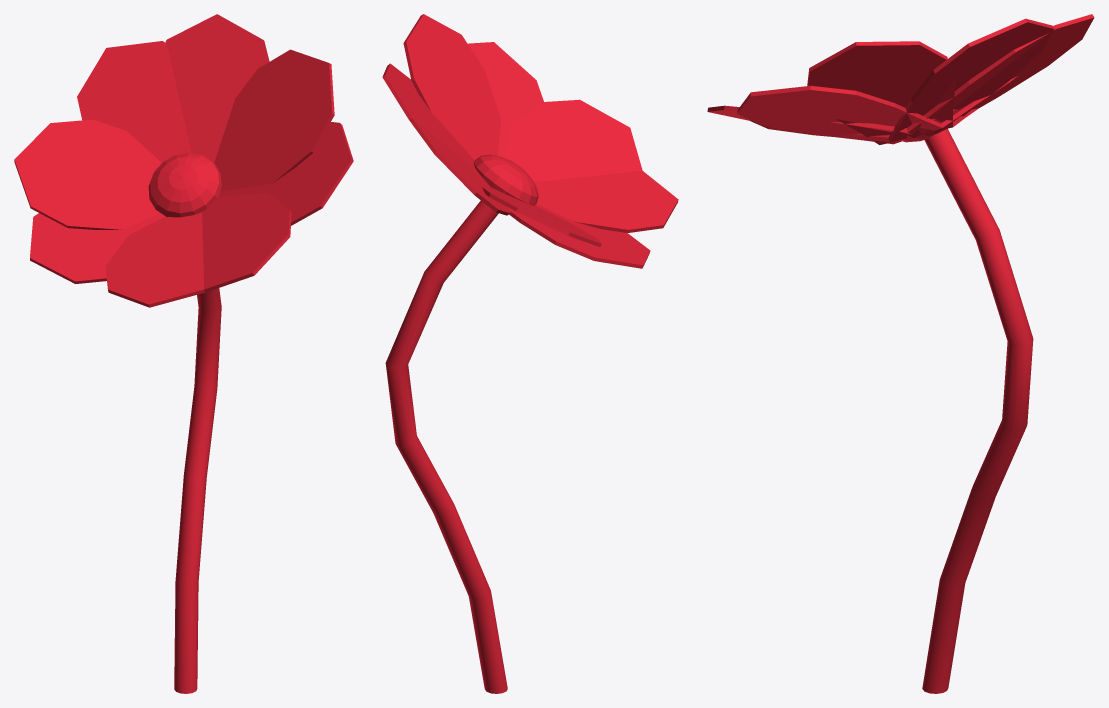
File: Czerwony.kwiatek.fbx
3 views of the same model, side by side, from view 1: azimuth 30°, elevation 25°; view 2: azimuth 150°, elevation 25°; view 3: azimuth 270°, elevation 25° (orthographic). The views are drawn at different scales.
Visible parts, largest first — view 1: Red Flower; view 2: Red Flower; view 3: Red Flower.
Boxes of the visible parts, x1,y1,x2,y2 form: Red Flower: (14, 14, 353, 693); Red Flower: (382, 14, 678, 693); Red Flower: (707, 14, 1094, 693).
Size of the model in its own units: 78.41 by 179 by 88.66.
